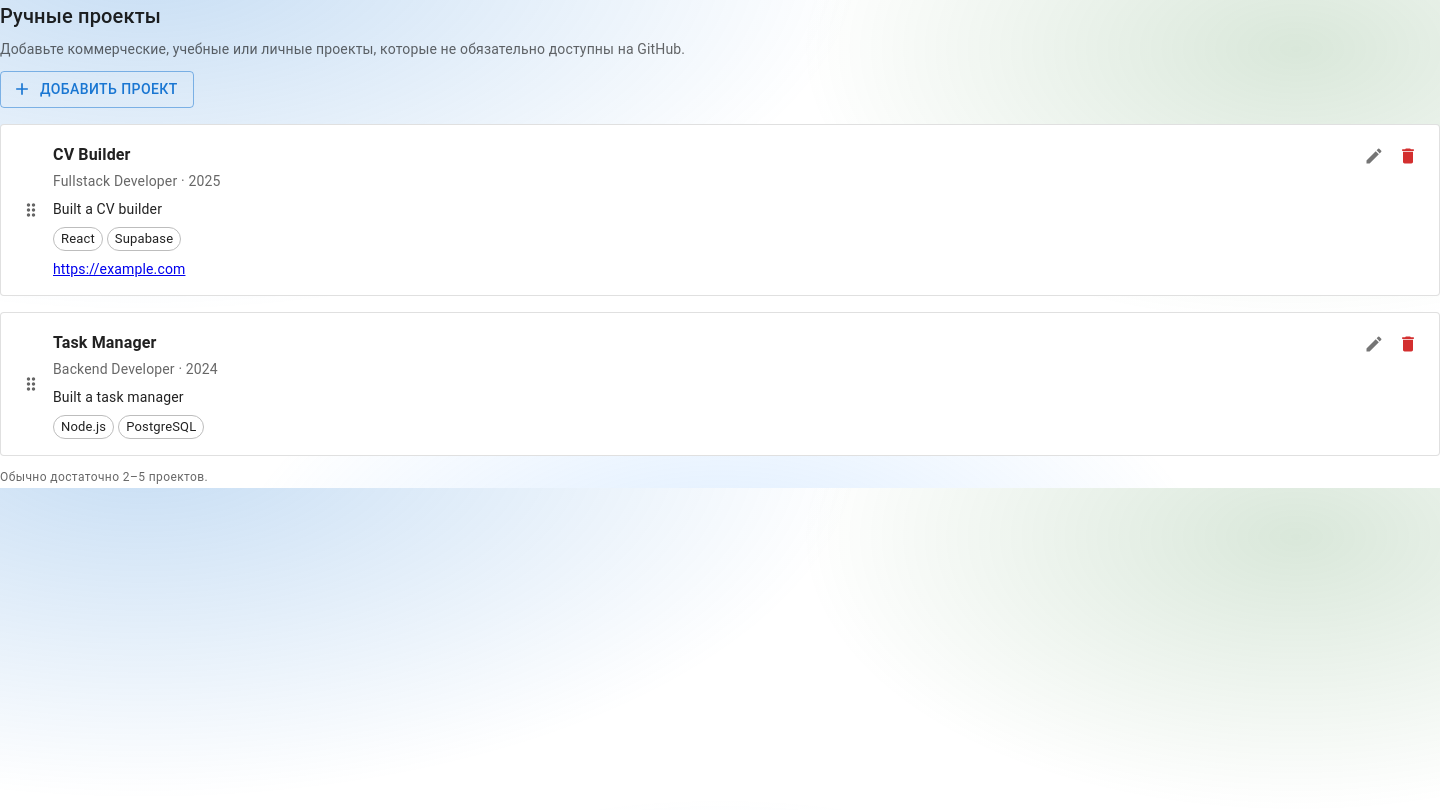
Test: ProjectsBlock — edit existing project › edit opens form for correct project
This screenshot has width=1440, height=810.
Click the button named "Редактировать" at (1374, 156), box [1359,140,1389,170]
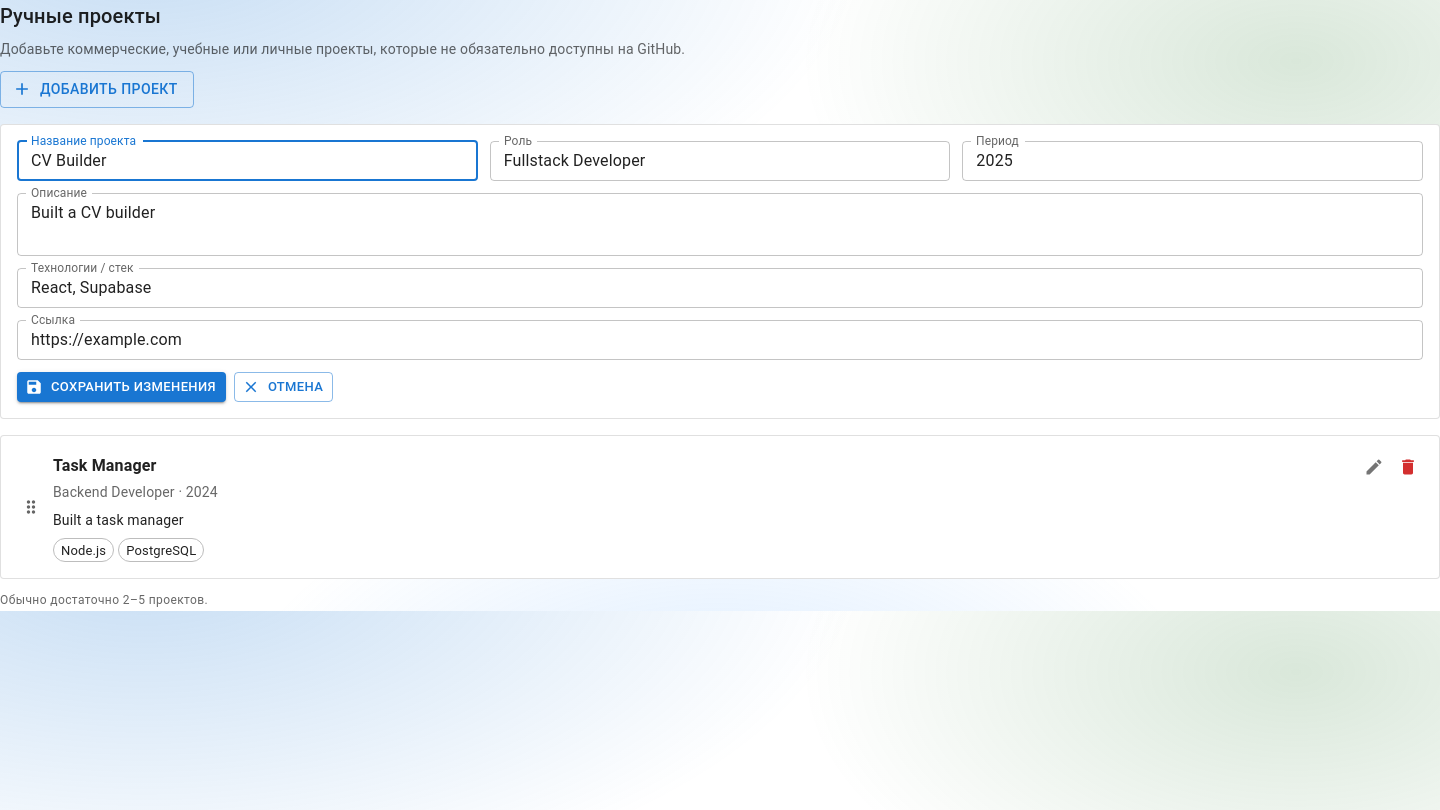
Expected: the field showing "CV Builder" is shown, [17,140,478,180]
